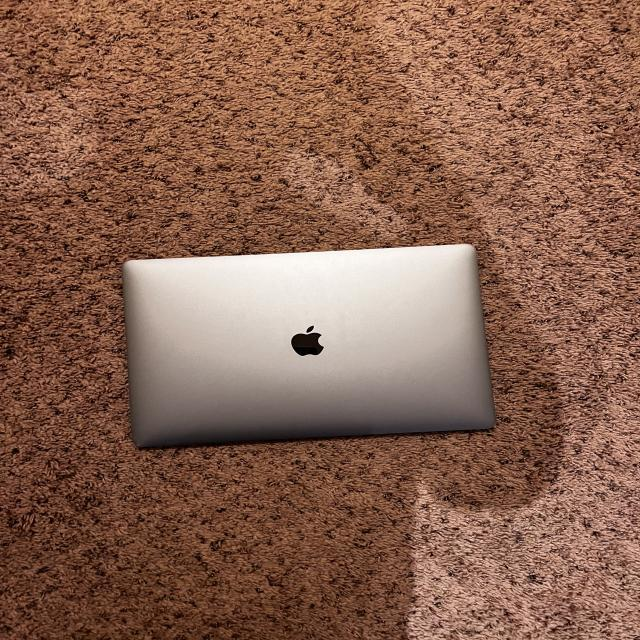laptop: (121, 242, 496, 448)
